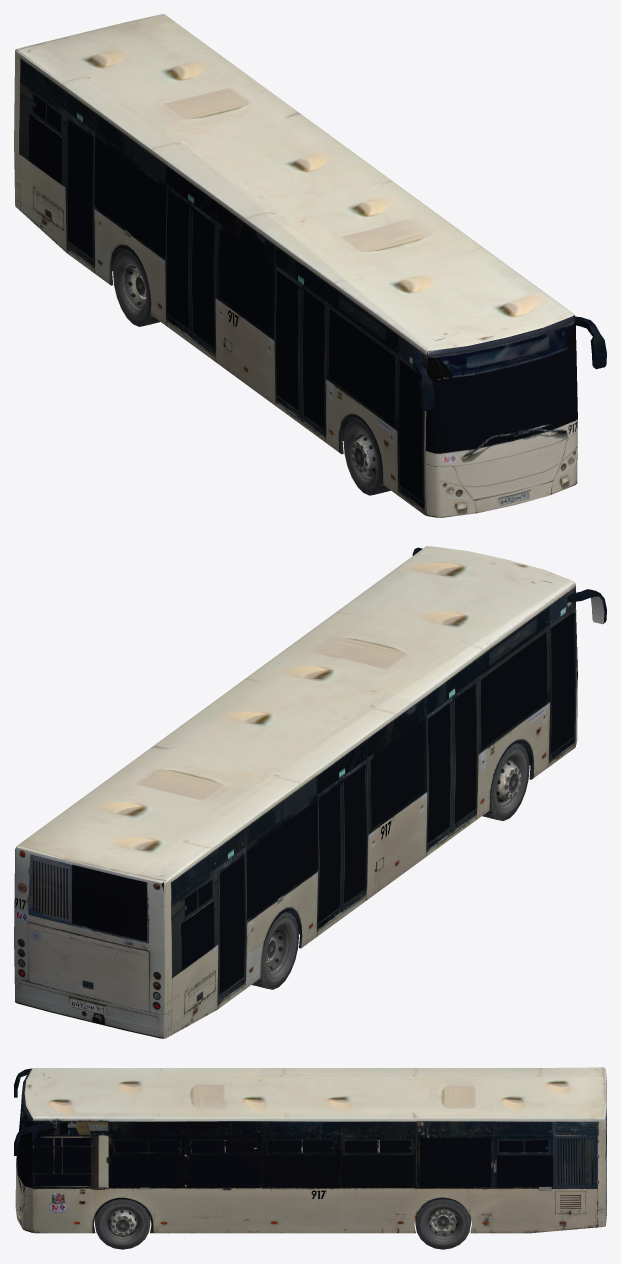
File: CityBus.fbx
The picture shows the model from 3 angles, top to bottom: view 1: azimuth 30°, elevation 25°; view 2: azimuth 150°, elevation 25°; view 3: azimuth 270°, elevation 25°; orthographic projection. The views are drawn at different scales.
Parts seen in each view (by area): view 1: RoAZ_Low, Wheel_RR, Wheel_FR; view 2: RoAZ_Low, Wheel_FR, Wheel_RR; view 3: RoAZ_Low, Wheel_FL, Wheel_RL.
Boxes of the visible parts, x1,y1,x2,y2 form: RoAZ_Low: [14, 14, 606, 517]; Wheel_RR: [113, 249, 160, 326]; Wheel_FR: [343, 418, 390, 495]; RoAZ_Low: [14, 546, 606, 1038]; Wheel_FR: [482, 743, 529, 820]; Wheel_RR: [252, 912, 298, 989]; RoAZ_Low: [14, 1067, 606, 1233]; Wheel_FL: [95, 1199, 150, 1249]; Wheel_RL: [415, 1199, 470, 1249].
Size of the model in its own units: 3.06 by 12.27 by 3.02.
5 materials, 2 textured.
